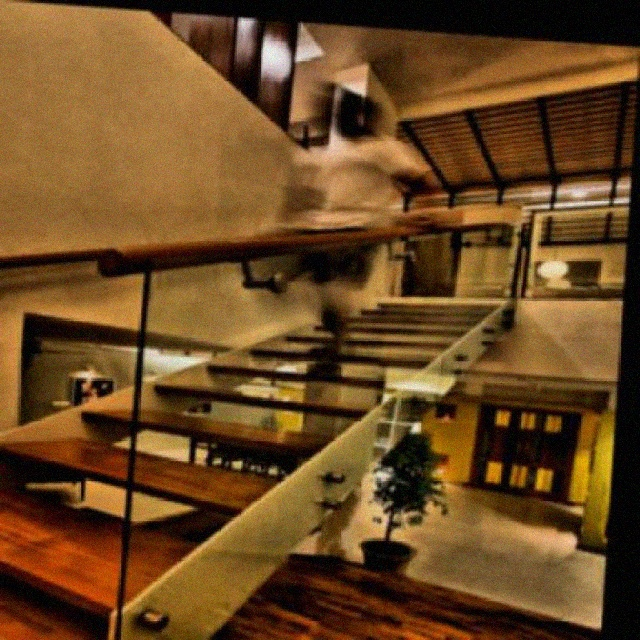stair: (0, 200, 383, 638)
